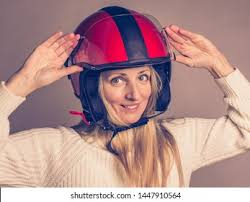com_capacete: (58, 3, 180, 135)
